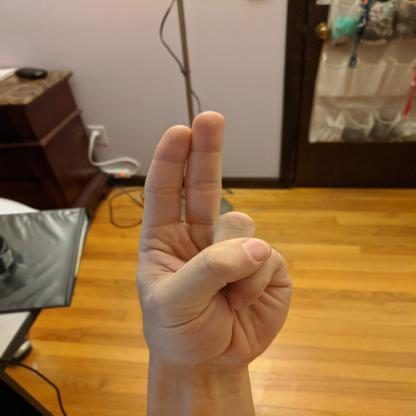U: (129, 106, 297, 369)
